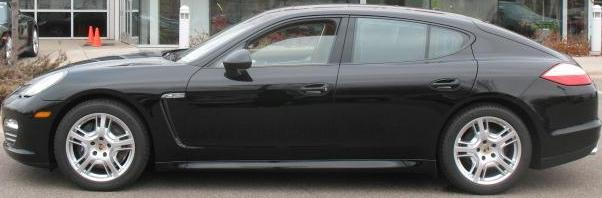backlight: (535, 54, 596, 96)
headlight: (12, 66, 80, 100)
side_glass: (199, 18, 452, 79)
